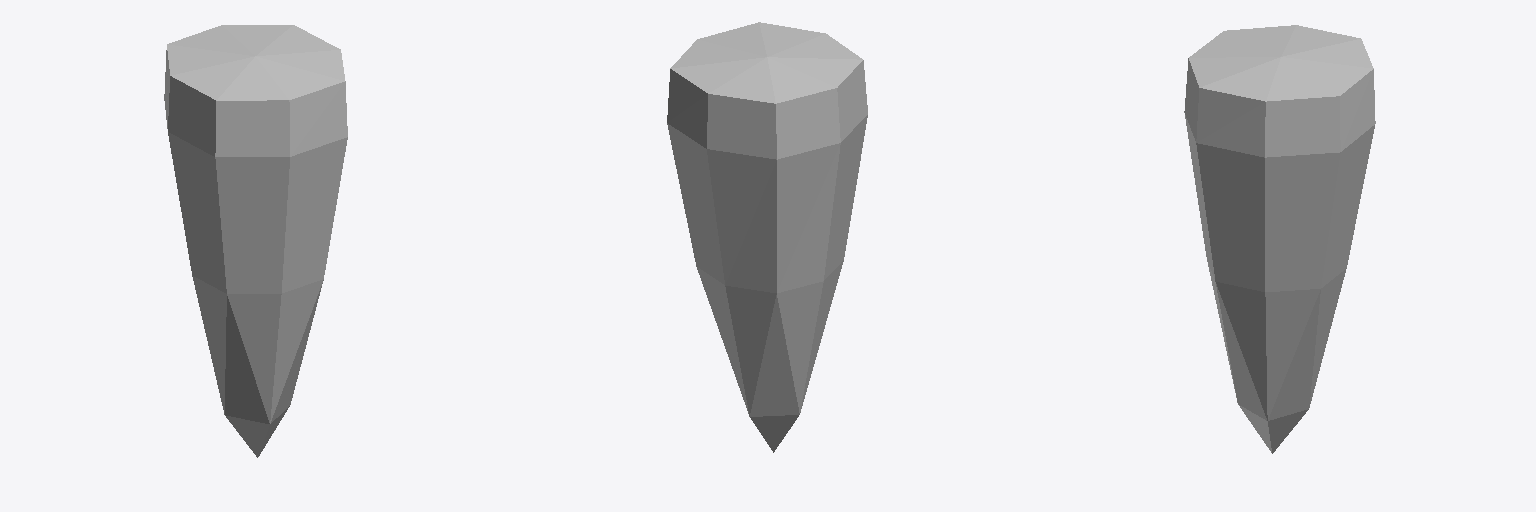
The model's file is step_stone_05.obj.
The picture shows the model from 3 angles: view 1: azimuth 30°, elevation 25°; view 2: azimuth 150°, elevation 25°; view 3: azimuth 270°, elevation 25°; orthographic projection.
Visible parts, largest first — view 1: step_stone_05; view 2: step_stone_05; view 3: step_stone_05.
Part boxes in pixels (x1,y1,x2,y2): step_stone_05: (164,25,347,457); step_stone_05: (667,22,867,452); step_stone_05: (1184,25,1375,453).
Bounding box in the file's own units: 140 × 332 × 144.